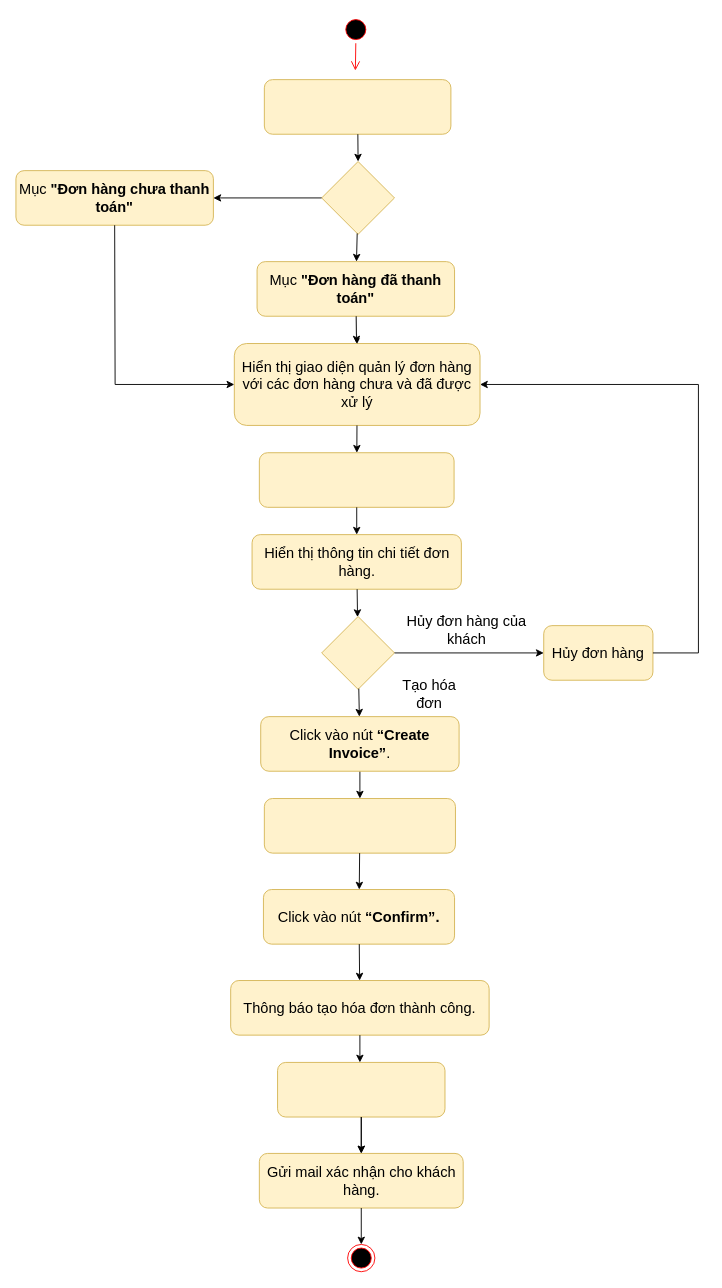
The diagram is 722 pixels wide and 1288 high, and some of its shapes have lost their labels. The shapes that lost their labels are listed below. From the top down, each one's centre as x and y in pixels, then its label:
(x=357, y=106): Chọn mục “Thương mại điện tử”
(x=356, y=479): Chọn vào đơn hàng chưa xử lý.
(x=359, y=825): Tạo ra bản xem trước hóa đơn.
(x=361, y=1089): Ghi vào cơ sở dữ liệu
